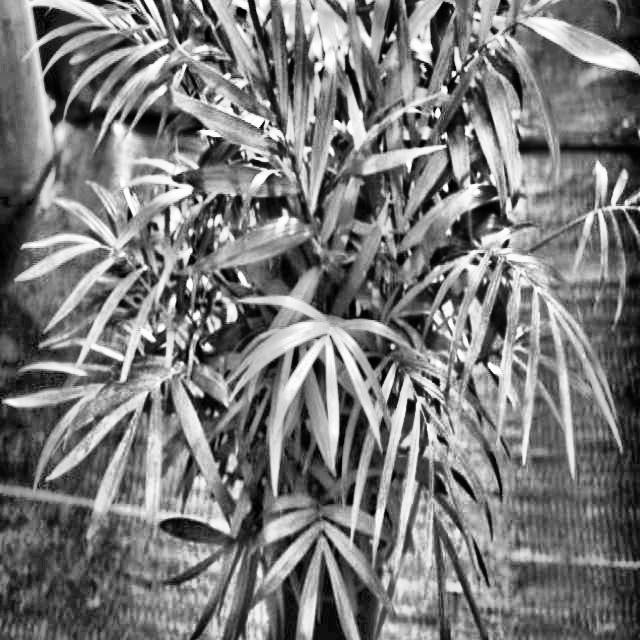plants: (65, 19, 579, 596)
